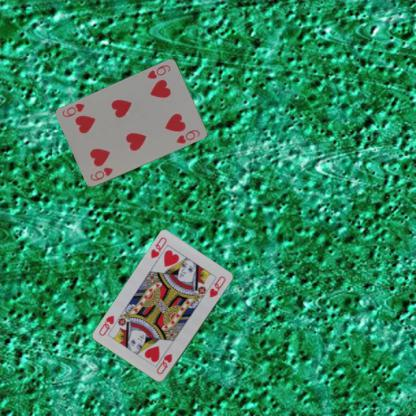6h: (144, 62, 172, 80), (88, 165, 115, 182)
Qh: (148, 235, 168, 260), (154, 351, 173, 376)
